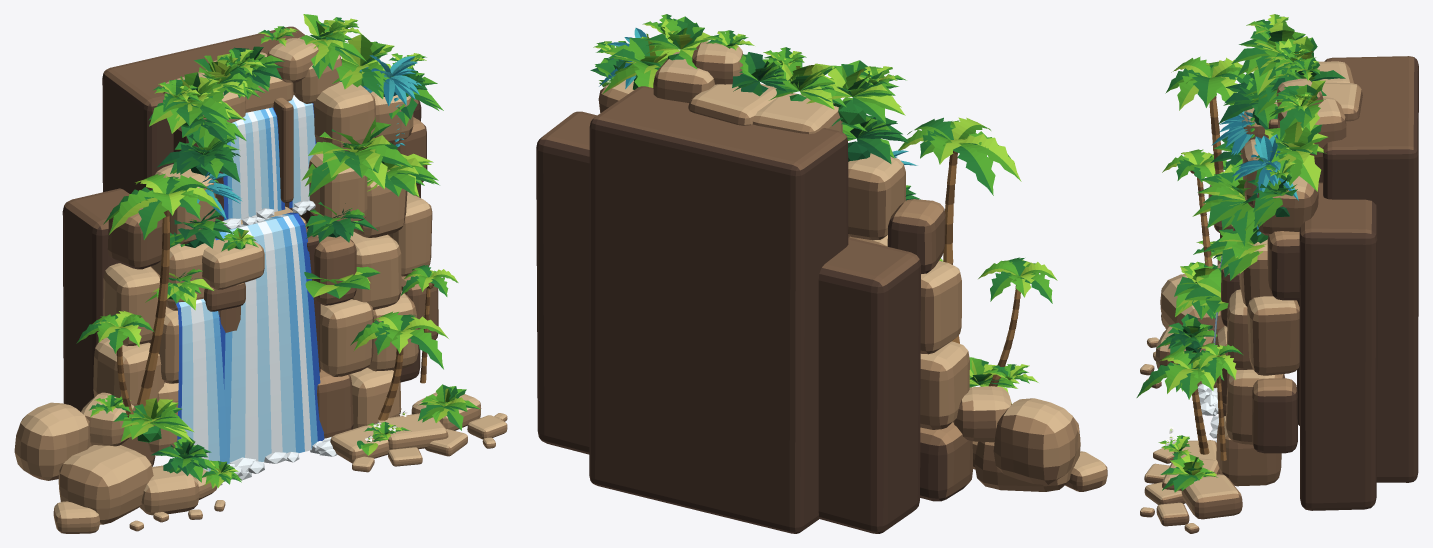
The model's file is JungleWaterfall.glb.
3 renders of one model, left to right at view 1: azimuth 30°, elevation 25°; view 2: azimuth 150°, elevation 25°; view 3: azimuth 270°, elevation 25°, orthographic. The views are drawn at different scales.
Parts seen in each view (by area): view 1: Rock_Side, Leaf_Mid, Rock_Top, Rock_Shadow, Rock_Deep, Leaf_Dark, Water_Light, Water_White, Leaf_Light, Water_Mid, Leaf_Deep, Water_Dark (+4 smaller); view 2: Rock_Deep, Rock_Shadow, Rock_Side, Leaf_Mid, Rock_Top, Leaf_Dark, Leaf_Light, Leaf_Deep, Trunk, Trunk_Dark; view 3: Rock_Deep, Rock_Shadow, Leaf_Mid, Leaf_Dark, Rock_Top, Rock_Side, Leaf_Light, Leaf_Deep, Teal_Dark, Trunk, Teal_Light, Trunk_Dark (+1 smaller).
Boxes of the visible parts, x1=… form: Rock_Side: x1=14, y1=46, x2=507, y2=532; Leaf_Mid: x1=76, y1=14, x2=480, y2=488; Rock_Top: x1=20, y1=37, x2=506, y2=526; Rock_Shadow: x1=26, y1=26, x2=507, y2=533; Rock_Deep: x1=62, y1=71, x2=438, y2=466; Leaf_Dark: x1=77, y1=17, x2=479, y2=484; Water_Light: x1=179, y1=98, x2=315, y2=471; Water_White: x1=190, y1=95, x2=337, y2=488; Leaf_Light: x1=90, y1=14, x2=465, y2=488; Water_Mid: x1=212, y1=107, x2=317, y2=464; Leaf_Deep: x1=151, y1=47, x2=426, y2=475; Water_Dark: x1=175, y1=103, x2=324, y2=457; Rock_Deep: x1=536, y1=117, x2=967, y2=533; Rock_Shadow: x1=541, y1=56, x2=1104, y2=497; Rock_Side: x1=601, y1=43, x2=1107, y2=485; Leaf_Mid: x1=593, y1=14, x2=1056, y2=388; Rock_Top: x1=605, y1=41, x2=1106, y2=476; Leaf_Dark: x1=591, y1=14, x2=1052, y2=386; Leaf_Light: x1=594, y1=19, x2=1057, y2=403; Leaf_Deep: x1=590, y1=52, x2=919, y2=200; Trunk: x1=943, y1=165, x2=1020, y2=379; Trunk_Dark: x1=945, y1=151, x2=1020, y2=386; Rock_Deep: x1=1222, y1=57, x2=1418, y2=510; Rock_Shadow: x1=1140, y1=56, x2=1414, y2=533; Leaf_Mid: x1=1137, y1=14, x2=1328, y2=492; Leaf_Dark: x1=1136, y1=16, x2=1345, y2=492; Rock_Top: x1=1140, y1=61, x2=1356, y2=529; Rock_Side: x1=1140, y1=63, x2=1361, y2=532; Leaf_Light: x1=1156, y1=14, x2=1327, y2=478; Leaf_Deep: x1=1166, y1=59, x2=1344, y2=352; Teal_Dark: x1=1212, y1=111, x2=1297, y2=235; Trunk: x1=1192, y1=99, x2=1226, y2=460; Teal_Light: x1=1213, y1=111, x2=1298, y2=235; Trunk_Dark: x1=1190, y1=96, x2=1226, y2=452.
Size of the model in its own units: 165 by 136 by 88.75.
